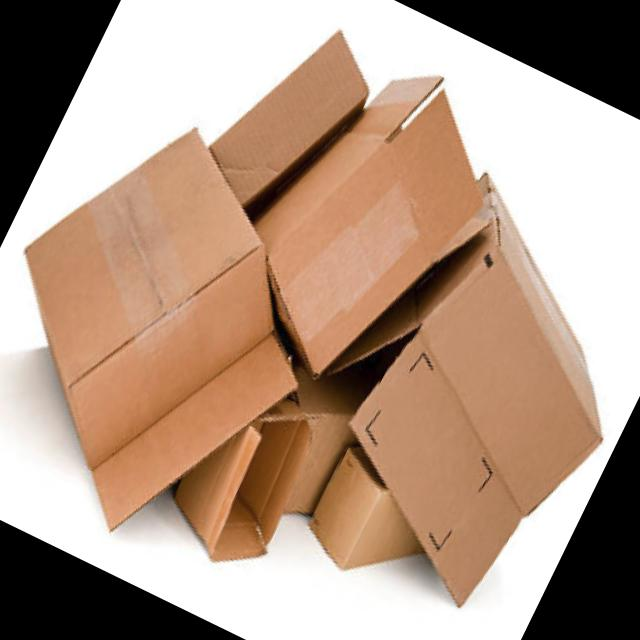Kardus: (0, 0, 640, 640), (0, 78, 384, 577), (308, 170, 640, 631), (201, 27, 535, 417)
